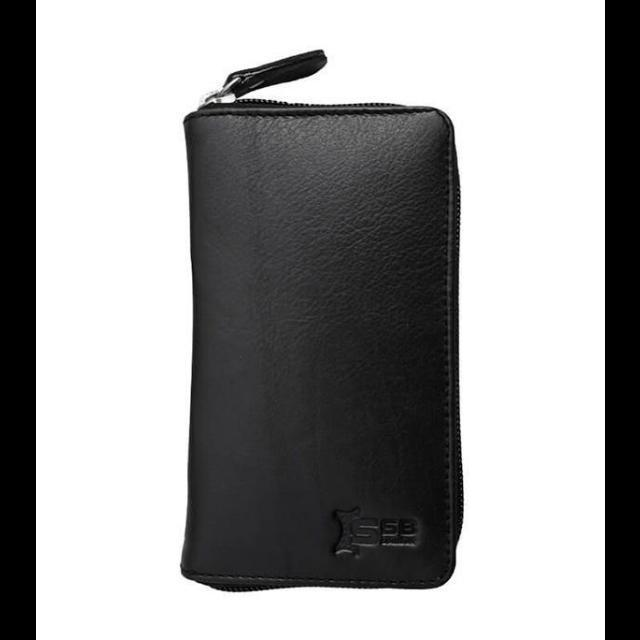wallet: (178, 95, 472, 600)
